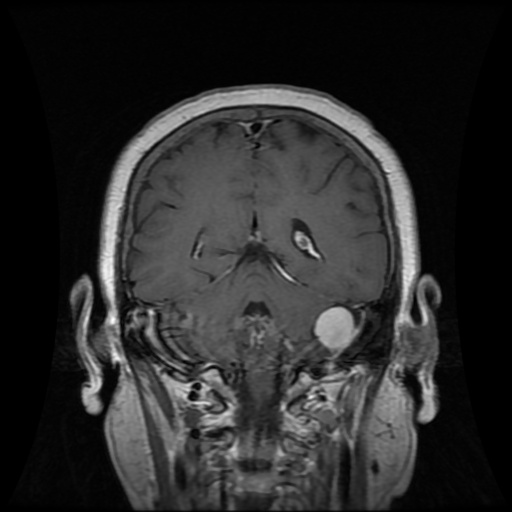meningioma: (314, 306, 354, 350)
